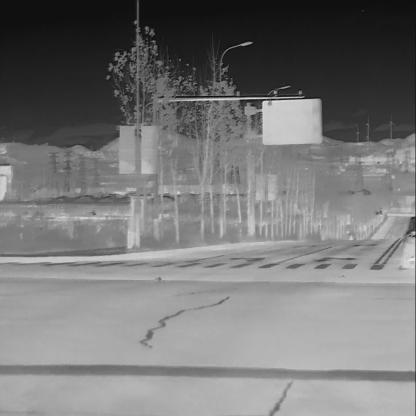car: (403, 216, 415, 268)
